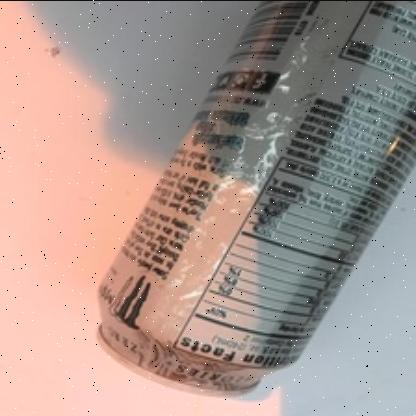Can: (96, 0, 416, 392)
